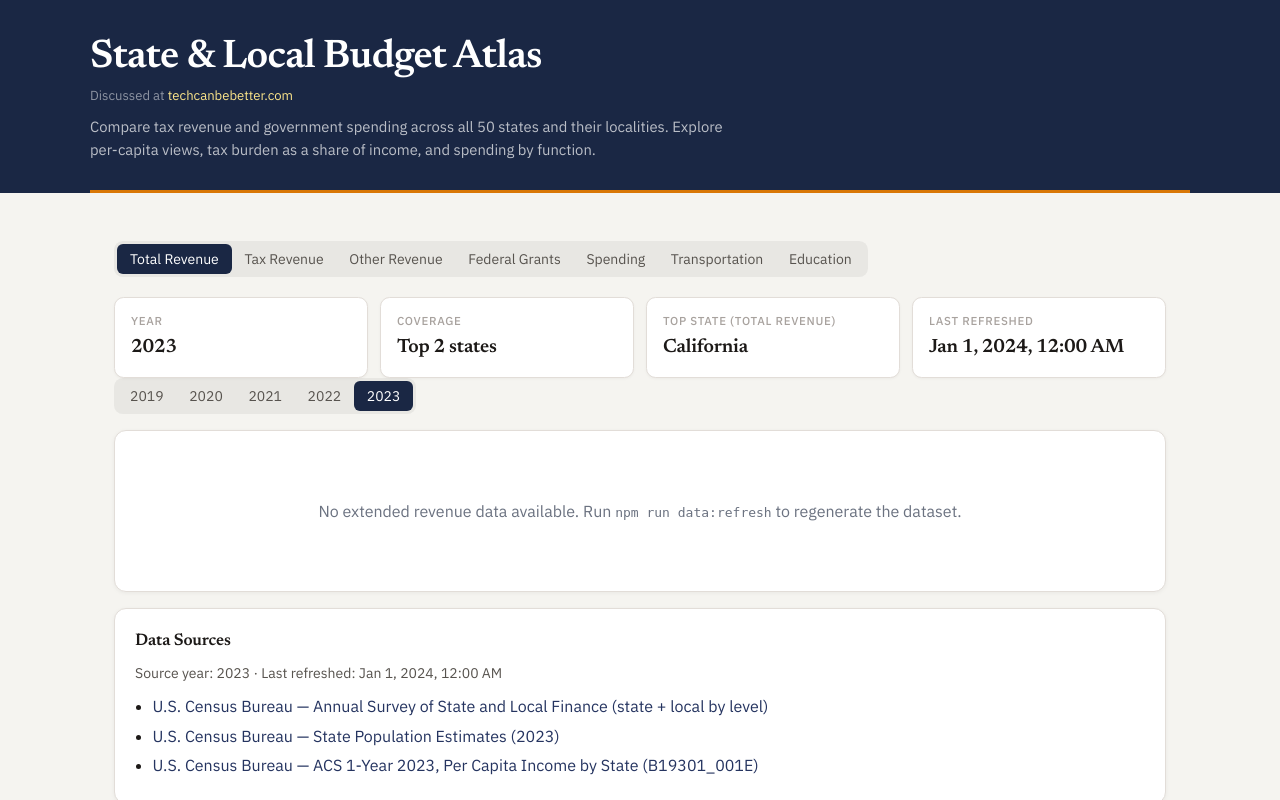
App year toggle › updates year card when a different year is selected
Expected: the button "2023" is shown, [354,381,413,411]
Expected: the heading "Year" is shown, [131,313,163,328]
Step 1. Click the button "2019" → (147, 396), box [117,381,176,411]
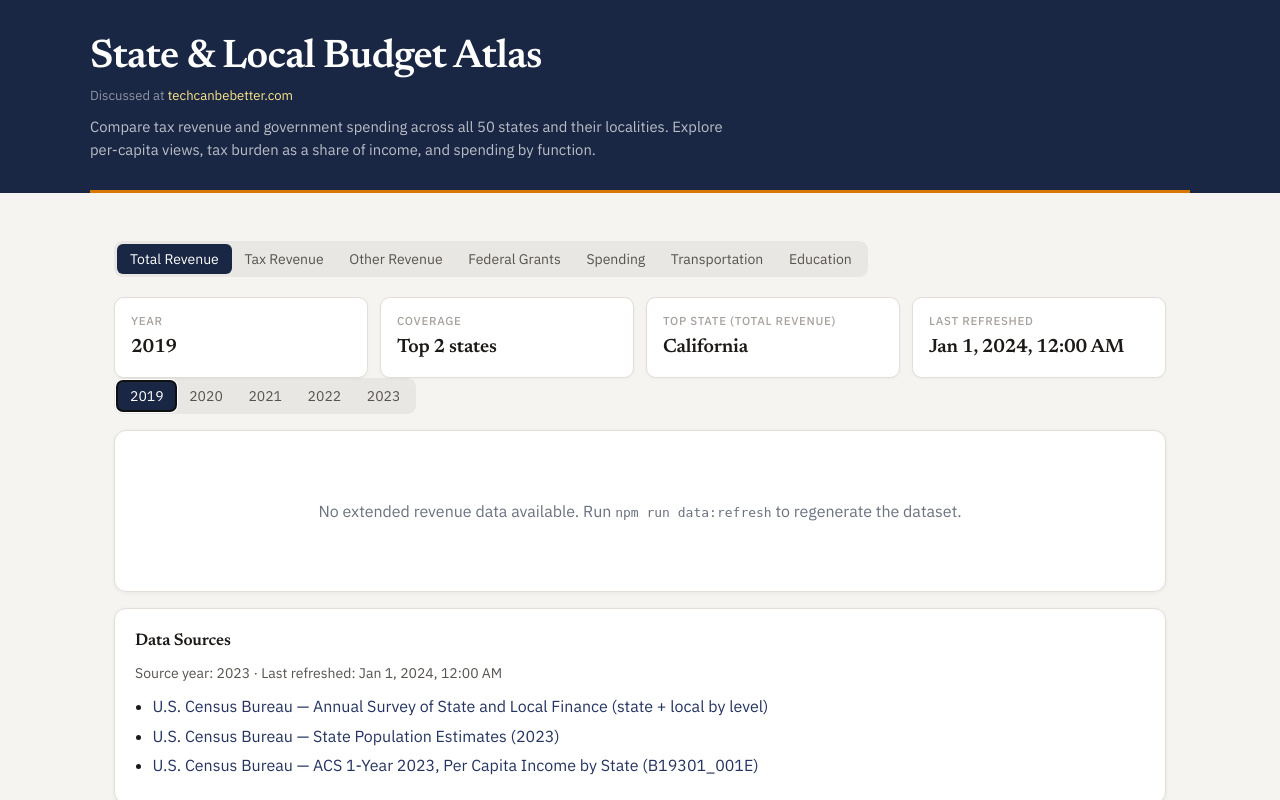
Expected: the text "2019" is shown, [131,338,177,357]
